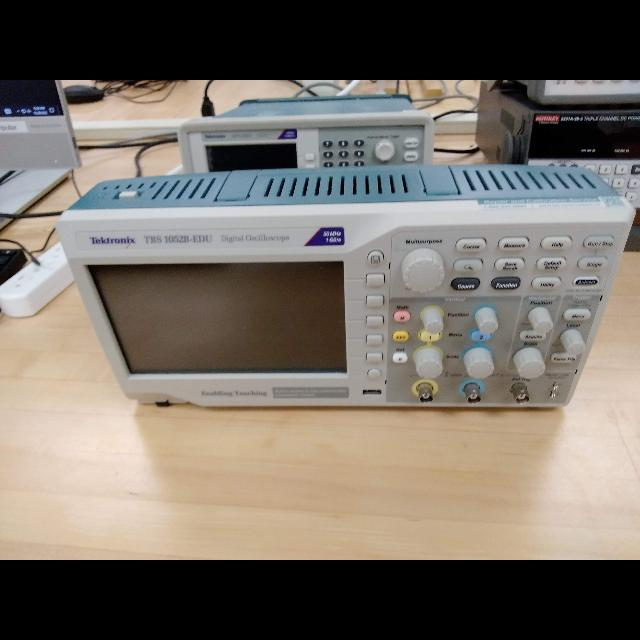Digital-Oscilloscope: (61, 221, 631, 406)
